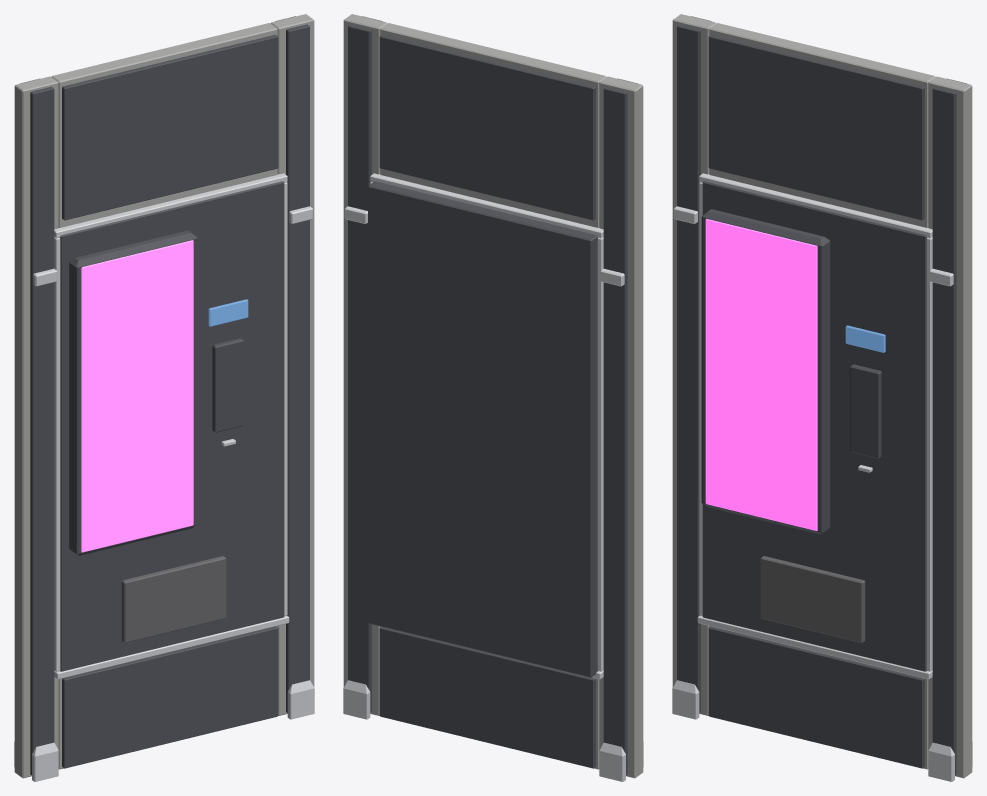
The model's file is cyberpunk-apartment-and-neon-block-wall-vending-panel--5c0aff3d__37791.glb.
3 views of the same model, side by side, from view 1: azimuth 30°, elevation 25°; view 2: azimuth 150°, elevation 25°; view 3: azimuth 330°, elevation 25° (orthographic).
Visible parts, largest first — view 1: wall-vending-panel-module; view 2: wall-vending-panel-module; view 3: wall-vending-panel-module.
Boxes of the visible parts, left/top/right/bottom form: wall-vending-panel-module: left=14, top=14, right=314, bottom=781; wall-vending-panel-module: left=343, top=14, right=643, bottom=781; wall-vending-panel-module: left=672, top=14, right=972, bottom=781.
Size of the model in its own units: 1.2 by 2.7 by 0.2231.
